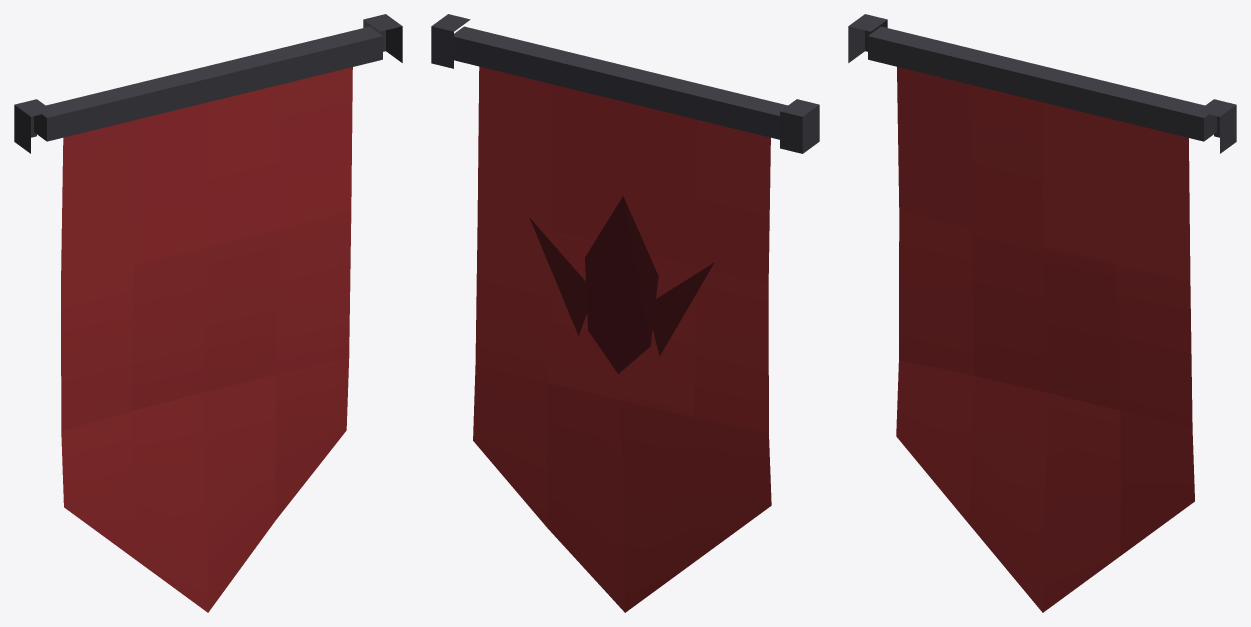
File: banner.glb
The picture shows the model from 3 angles, left to right: view 1: azimuth 30°, elevation 25°; view 2: azimuth 150°, elevation 25°; view 3: azimuth 330°, elevation 25°; orthographic projection.
Visible parts, largest first — view 1: banner; view 2: banner; view 3: banner.
Boxes of the visible parts, x1,y1,x2,y2 form: banner: (14,14,402,612); banner: (431,14,819,612); banner: (848,14,1236,612).
Size of the model in its own units: 1.15 by 1.62 by 0.09.
